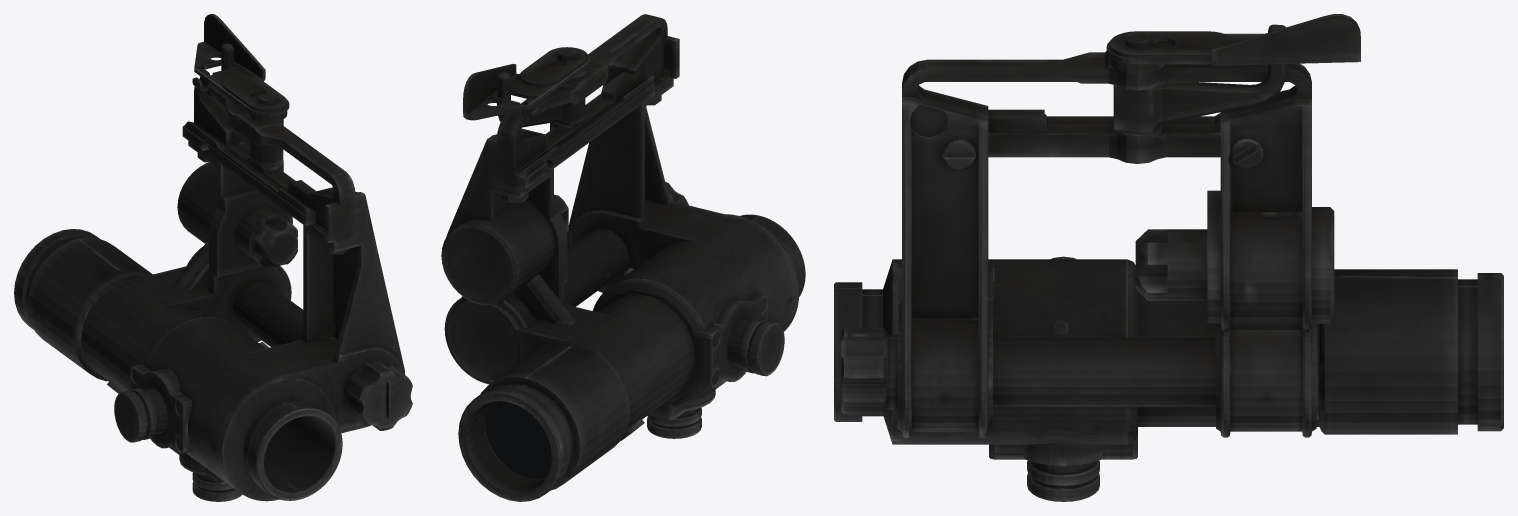
3 renders of one model, left to right at view 1: azimuth 30°, elevation 25°; view 2: azimuth 150°, elevation 25°; view 3: azimuth 270°, elevation 25°, orthographic. The views are drawn at different scales.
Parts seen in each view (by area): view 1: TW_6113d6c3290d254f5e6b27db_PZ_Import; view 2: TW_6113d6c3290d254f5e6b27db_PZ_Import; view 3: TW_6113d6c3290d254f5e6b27db_PZ_Import.
Part boxes in pixels (x1,y1,x2,y2): TW_6113d6c3290d254f5e6b27db_PZ_Import: (14, 14, 412, 501); TW_6113d6c3290d254f5e6b27db_PZ_Import: (441, 14, 805, 501); TW_6113d6c3290d254f5e6b27db_PZ_Import: (834, 14, 1503, 501).
Bounding box in the file's own units: 0.0519 × 0.0965 × 0.0853.
1 material, 1 textured.
